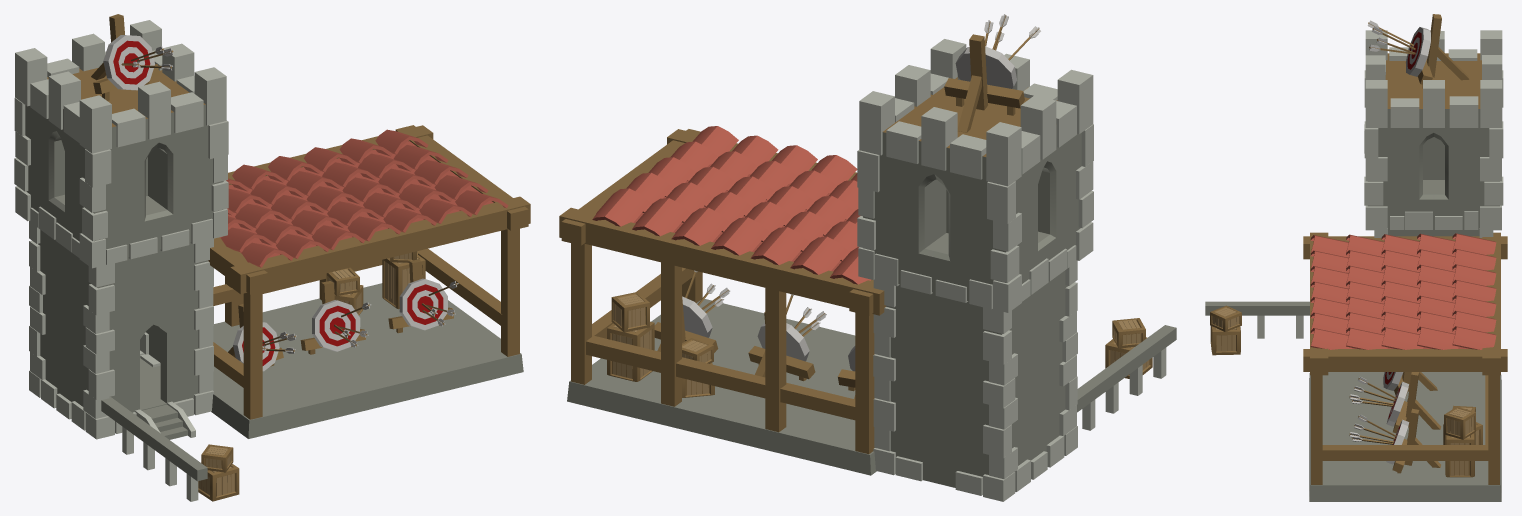
File: Archery_SecondAge_Level1.glb
The picture shows the model from 3 angles, left to right: view 1: azimuth 30°, elevation 25°; view 2: azimuth 150°, elevation 25°; view 3: azimuth 270°, elevation 25°; orthographic projection. The views are drawn at different scales.
Parts seen in each view (by area): view 1: Archery_SecondAge_Level1; view 2: Archery_SecondAge_Level1; view 3: Archery_SecondAge_Level1.
Boxes of the visible parts, <box> form: Archery_SecondAge_Level1: <box>14,14,530,501</box>; Archery_SecondAge_Level1: <box>559,14,1176,501</box>; Archery_SecondAge_Level1: <box>1205,14,1507,501</box>.
Size of the model in its own units: 1.38 by 1.25 by 1.
1 material, 1 textured.
